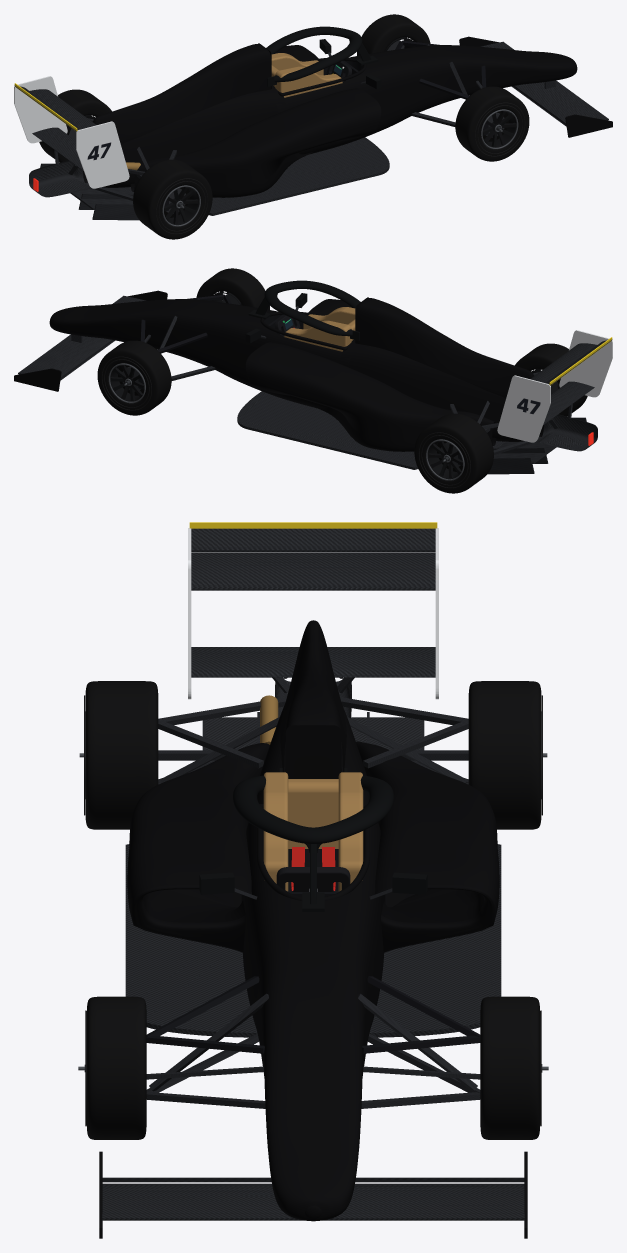
3 views of the same model, one above another, from view 1: azimuth 30°, elevation 25°; view 2: azimuth 150°, elevation 25°; view 3: azimuth 270°, elevation 25° (orthographic). The views are drawn at different scales.
Parts seen in each view (by area): view 1: p0, p27, p24, p23, p39, p50, p48, p82, p76, p49, p40, p84 (+11 smaller); view 2: p0, p33, p24, p23, p39, p51, p49, p84, p76, p48, p40, p82 (+11 smaller); view 3: p0, p39, p33, p27, p76, p50, p51, p86, p49, p48, p89, p87 (+28 smaller).
Part boxes in pixels (<box>): p0: <box>276,45,577,154</box>; p27: <box>130,88,380,197</box>; p24: <box>93,44,271,144</box>; p23: <box>83,85,286,187</box>; p39: <box>121,137,389,215</box>; p50: <box>133,159,212,239</box>; p48: <box>455,86,529,161</box>; p82: <box>76,121,129,188</box>; p76: <box>481,41,608,126</box>; p49: <box>357,14,430,55</box>; p40: <box>266,26,362,82</box>; p84: <box>14,76,67,143</box>; p0: <box>49,299,350,408</box>; p33: <box>246,342,496,451</box>; p24: <box>355,298,533,398</box>; p23: <box>340,339,543,441</box>; p39: <box>237,391,505,469</box>; p51: <box>414,413,493,493</box>; p49: <box>97,340,171,415</box>; p84: <box>497,375,550,442</box>; p76: <box>18,295,145,380</box>; p48: <box>196,268,269,309</box>; p40: <box>264,280,360,336</box>; p82: <box>559,330,612,397</box>; p0: <box>241,822,385,1221</box>; p39: <box>125,844,501,1037</box>; p33: <box>356,741,499,922</box>; p27: <box>127,743,269,922</box>; p76: <box>102,1183,524,1220</box>; p50: <box>79,681,158,829</box>; p51: <box>468,681,547,829</box>; p86: <box>191,552,435,590</box>; p49: <box>480,996,548,1139</box>; p48: <box>78,996,146,1139</box>; p89: <box>191,647,435,677</box>; p87: <box>191,528,435,552</box>.
Bounding box in the file's own units: 4.78 × 1.01 × 1.81.
Materials: 64 (2 with a texture image).
